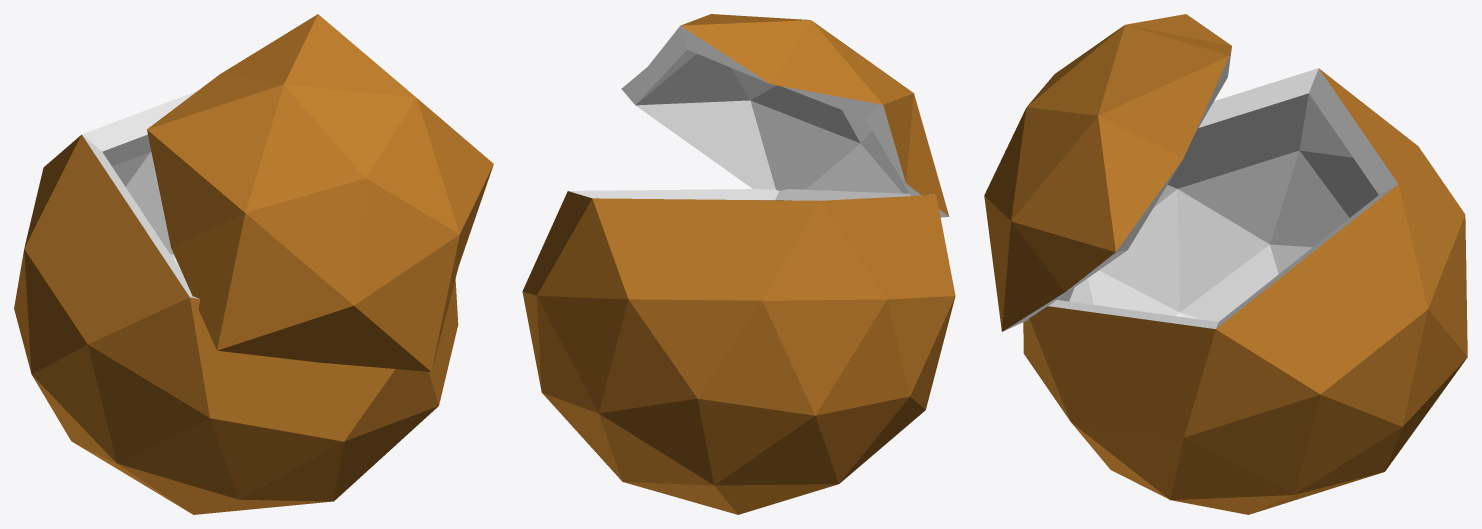
File: coconut.glb
3 views of the same model, side by side, from view 1: azimuth 30°, elevation 25°; view 2: azimuth 150°, elevation 25°; view 3: azimuth 270°, elevation 25° (orthographic). The views are drawn at different scales.
Parts seen in each view (by area): view 1: Icosphere, Icosphere.001; view 2: Icosphere.001, Icosphere; view 3: Icosphere.001, Icosphere.
Boxes of the visible parts, left/top/right/bottom form: Icosphere: left=147, top=14, right=493, bottom=371; Icosphere.001: left=14, top=91, right=458, bottom=514; Icosphere.001: left=522, top=189, right=955, bottom=514; Icosphere: left=621, top=14, right=949, bottom=217; Icosphere.001: left=1023, top=68, right=1467, bottom=514; Icosphere: left=984, top=14, right=1231, bottom=331.
Bounding box in the file's own units: 1.93 × 2.2 × 2.06.
